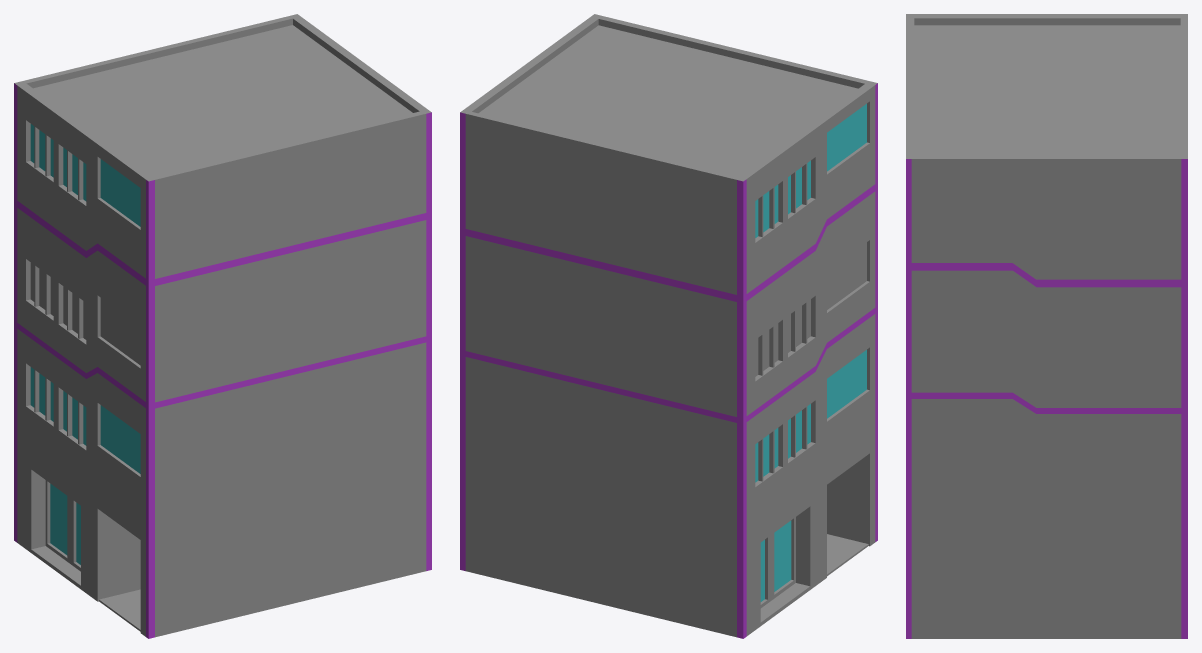
File: buildings_S_04_VAR2.fbx
3 renders of one model, left to right at view 1: azimuth 30°, elevation 25°; view 2: azimuth 150°, elevation 25°; view 3: azimuth 270°, elevation 25°, orthographic. The views are drawn at different scales.
Visible parts, largest first — view 1: buildings_S_04_VAR2; view 2: buildings_S_04_VAR2; view 3: buildings_S_04_VAR2.
Part boxes in pixels (x1,y1,x2,y2): buildings_S_04_VAR2: (14, 14, 431, 638); buildings_S_04_VAR2: (460, 14, 877, 638); buildings_S_04_VAR2: (906, 14, 1187, 638).
Bounding box in the file's own units: 9.79 × 15.11 × 8.05.
